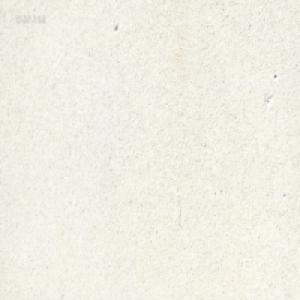Wrench: (172, 0, 179, 5)
